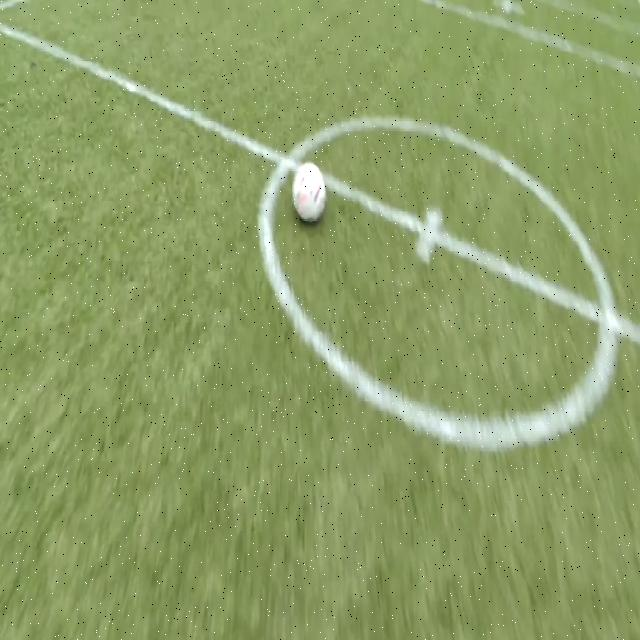ball: (292, 163, 326, 220)
